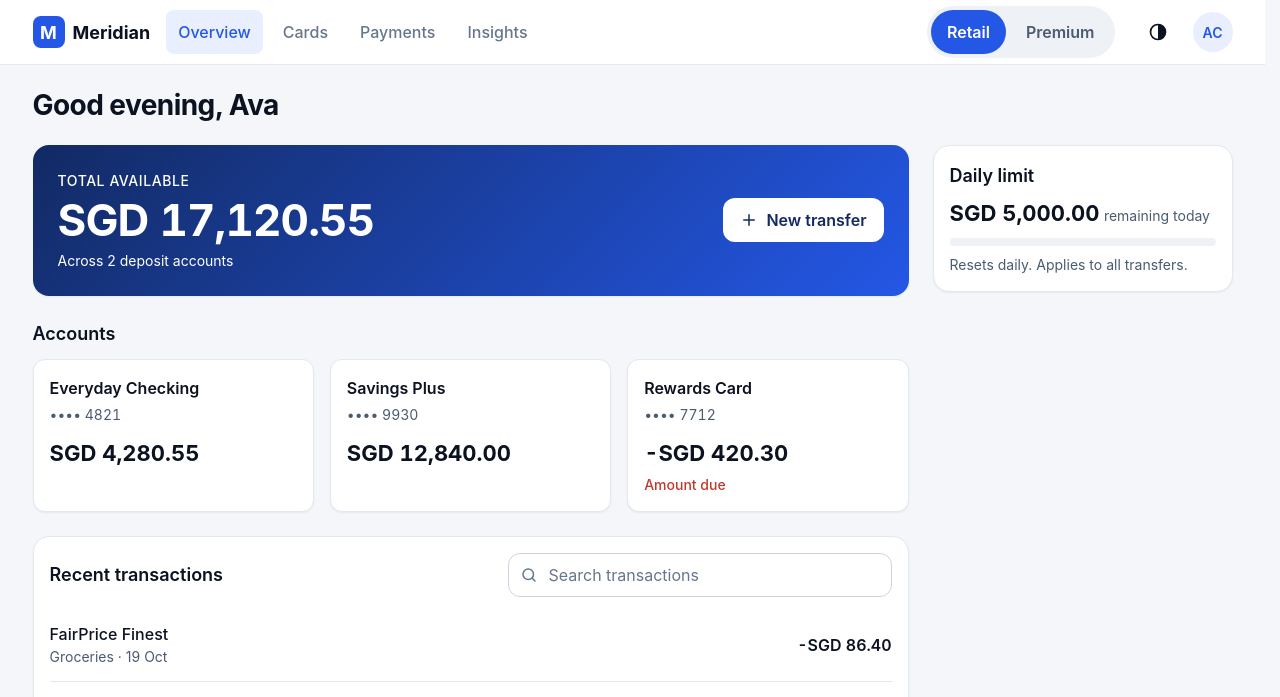
Scenario: transfer dialog › closes an untouched dialog without asking
Expected: the heading "Good evening, Ava" is shown, top-left (32, 89), bottom-right (279, 121)
Click the button "New transfer". click: (803, 220)
box: top-left (723, 198), bottom-right (884, 242)
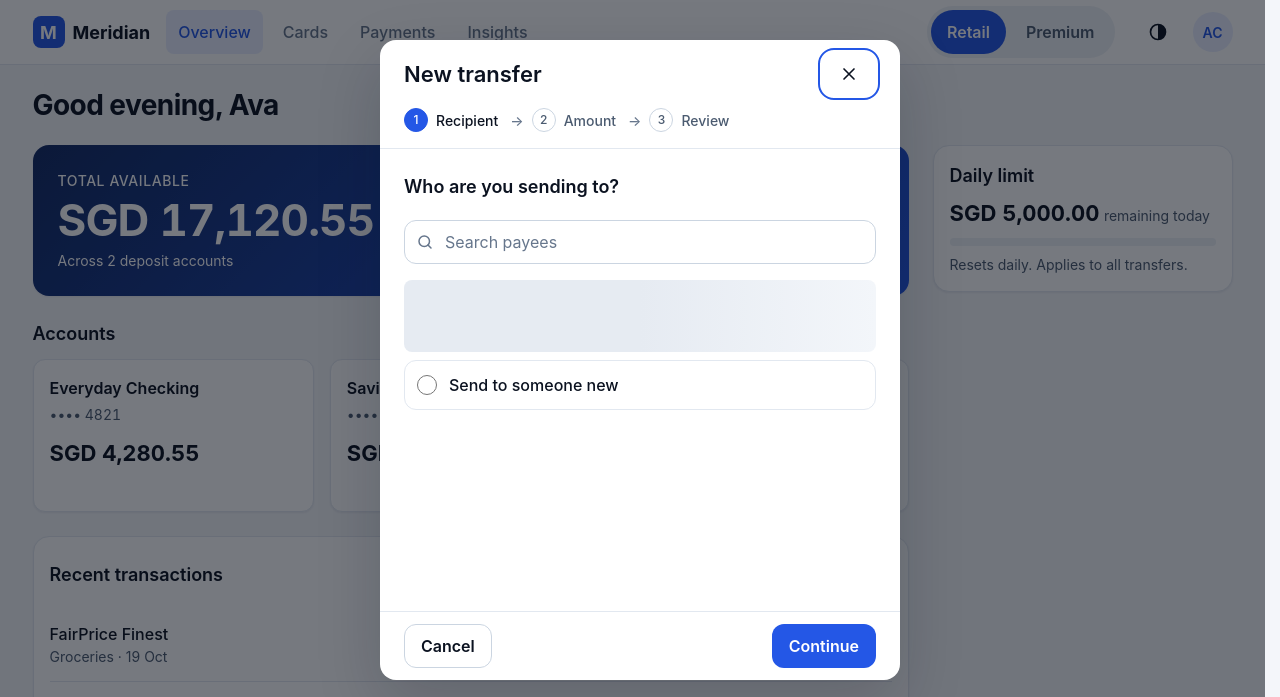
Click the button named "Close". click: (849, 74)
box: top-left (822, 52), bottom-right (876, 96)
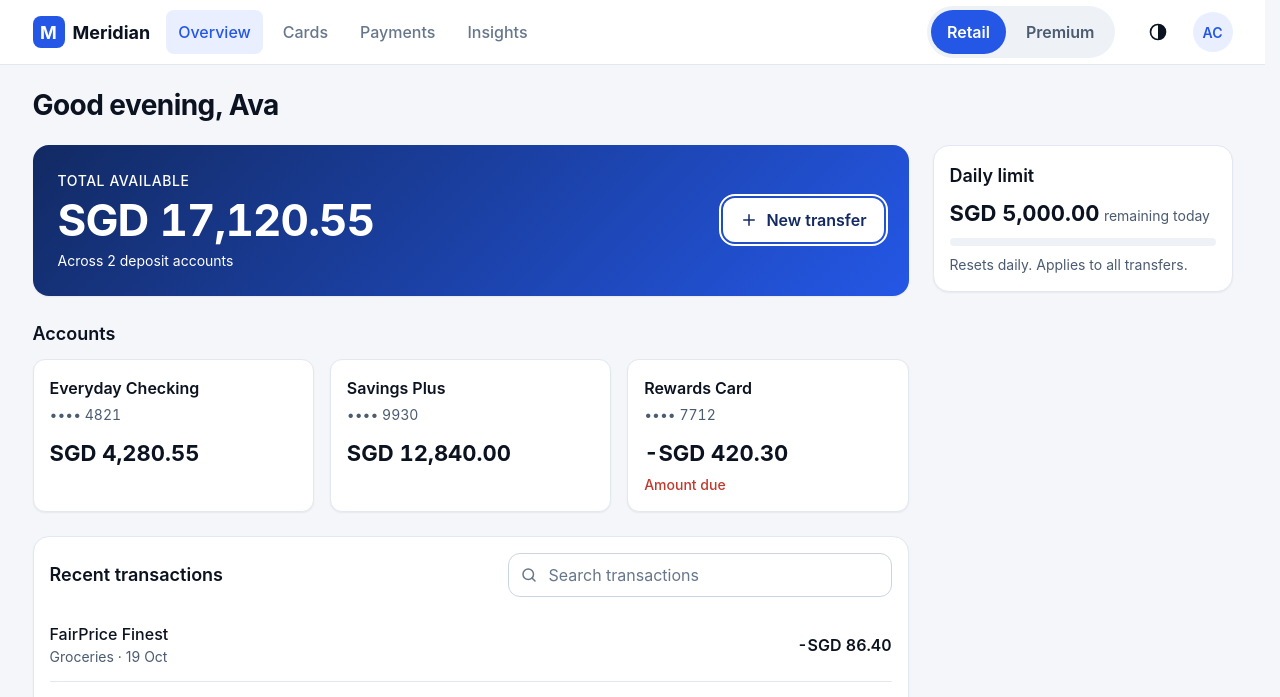
Expected: the dialog is gone
